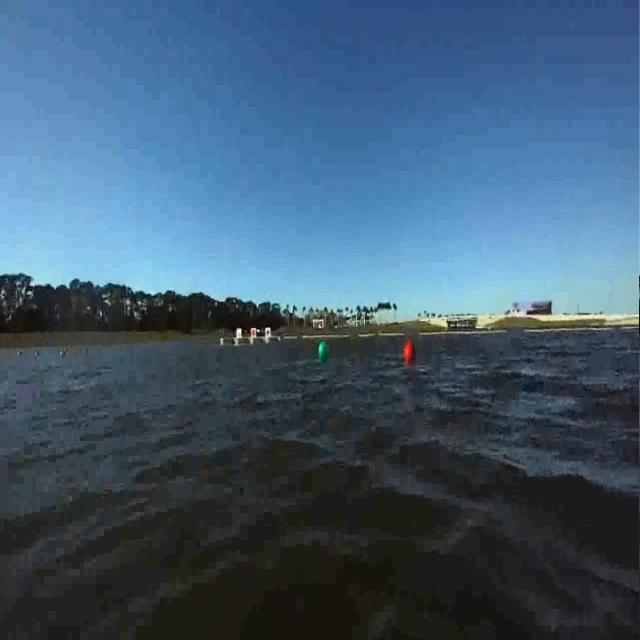green-buoy: (320, 342, 332, 363)
red-buoy: (407, 342, 416, 361)
